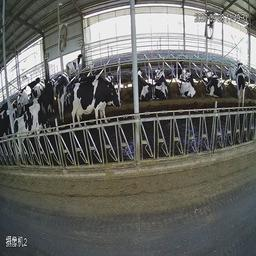cow: (76, 78, 131, 137), (13, 99, 49, 168), (55, 67, 70, 127), (154, 64, 174, 107), (137, 63, 155, 108), (203, 64, 224, 100), (180, 68, 199, 106), (235, 58, 247, 116), (66, 46, 85, 73), (174, 54, 184, 77)
